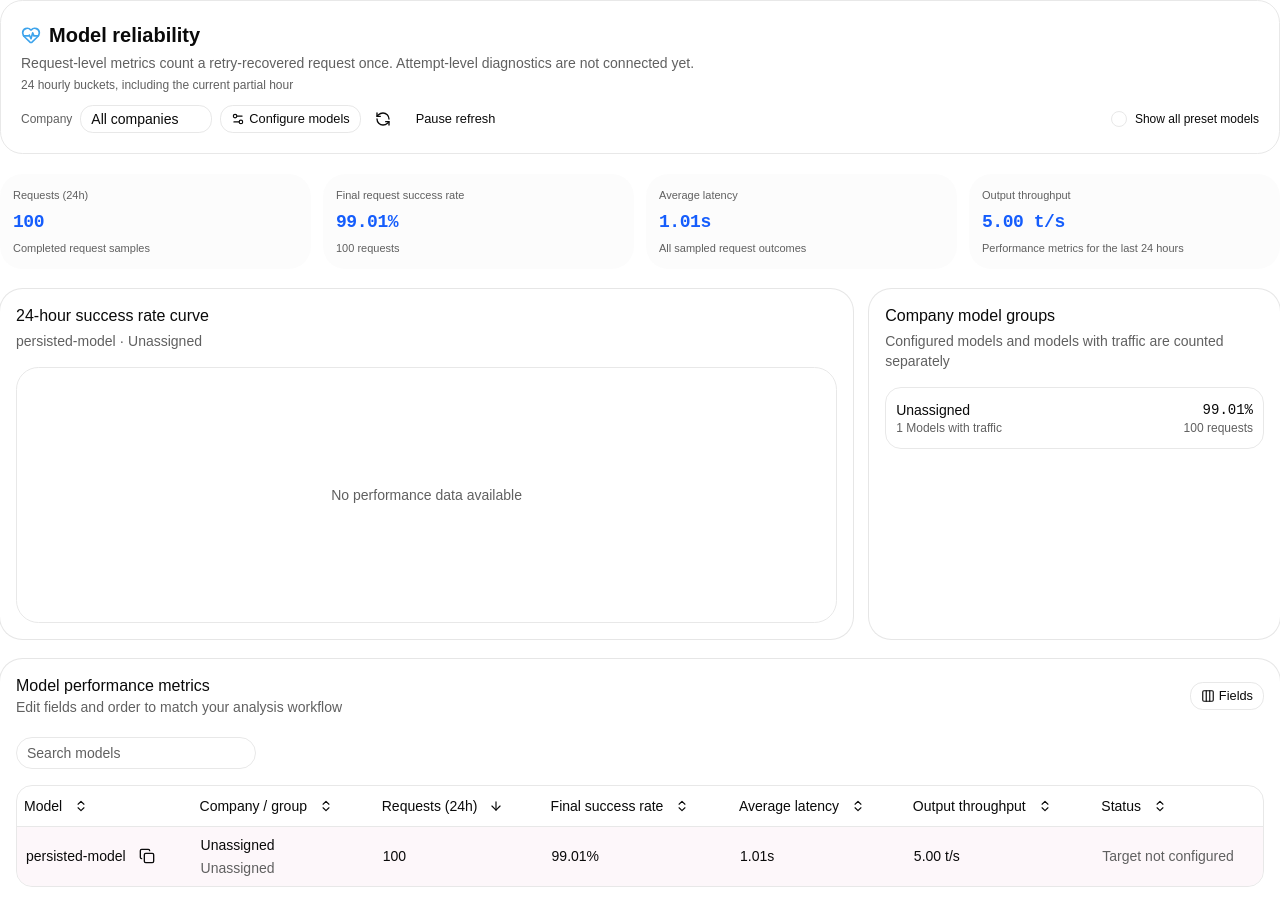
Scenario: server performance summaries › keeps the last successful metrics visible and marks them stale when refresh fails
Click the button named "Refresh" at [383, 119], box [369,105,397,133]
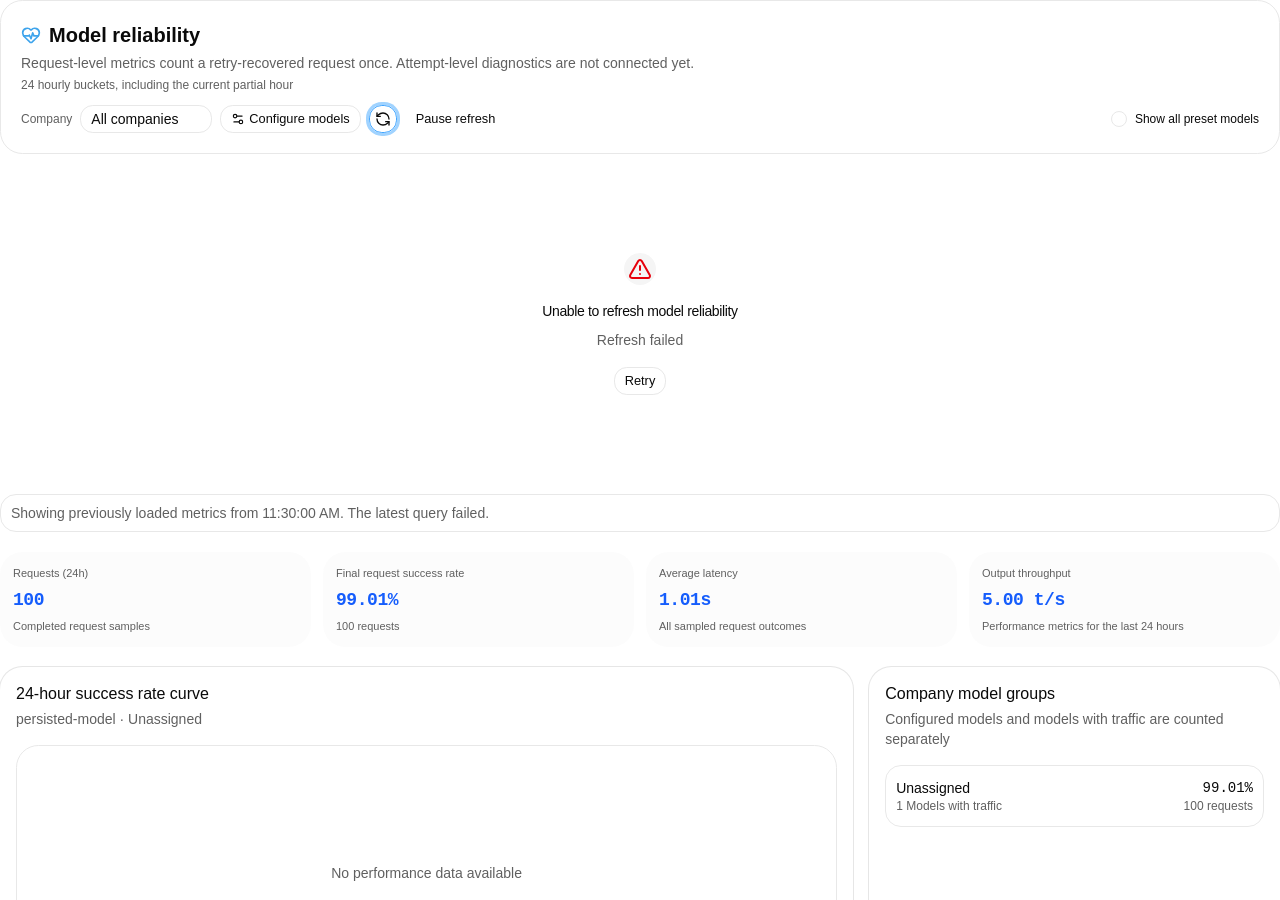
Expected: the button "Configure models" is shown, [220,105,361,133]
Expected: the text "Unable to refresh model reliability" is shown, [542,301,738,321]
Expected: the message named "Cached metrics" shows "The latest query failed.", [11,505,489,521]
